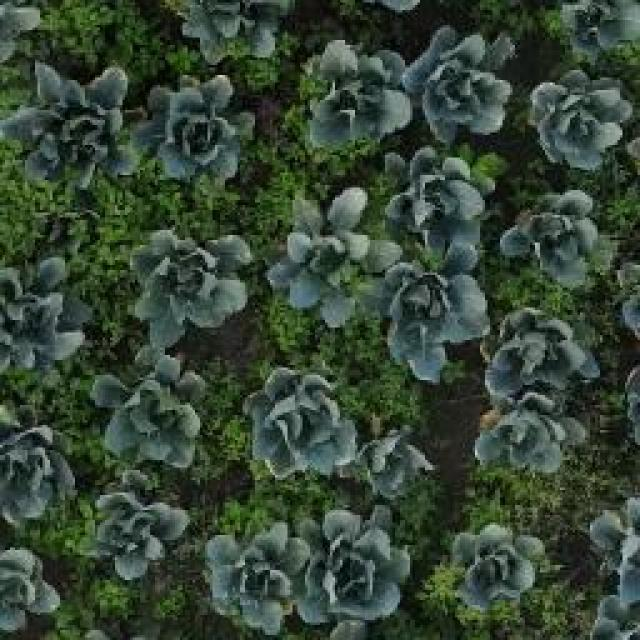cabbage: (271, 185, 399, 320), (4, 61, 136, 188), (294, 504, 414, 628), (126, 225, 252, 340), (401, 20, 516, 144), (134, 69, 256, 180), (198, 520, 309, 638), (92, 350, 202, 468), (297, 38, 414, 145), (468, 392, 590, 491), (382, 147, 494, 253), (382, 262, 484, 378), (483, 304, 600, 405), (0, 254, 90, 383), (248, 361, 353, 471), (501, 186, 613, 288), (529, 64, 633, 170), (451, 516, 547, 612), (92, 488, 192, 578), (0, 416, 75, 526), (0, 543, 62, 635), (356, 429, 436, 500)
